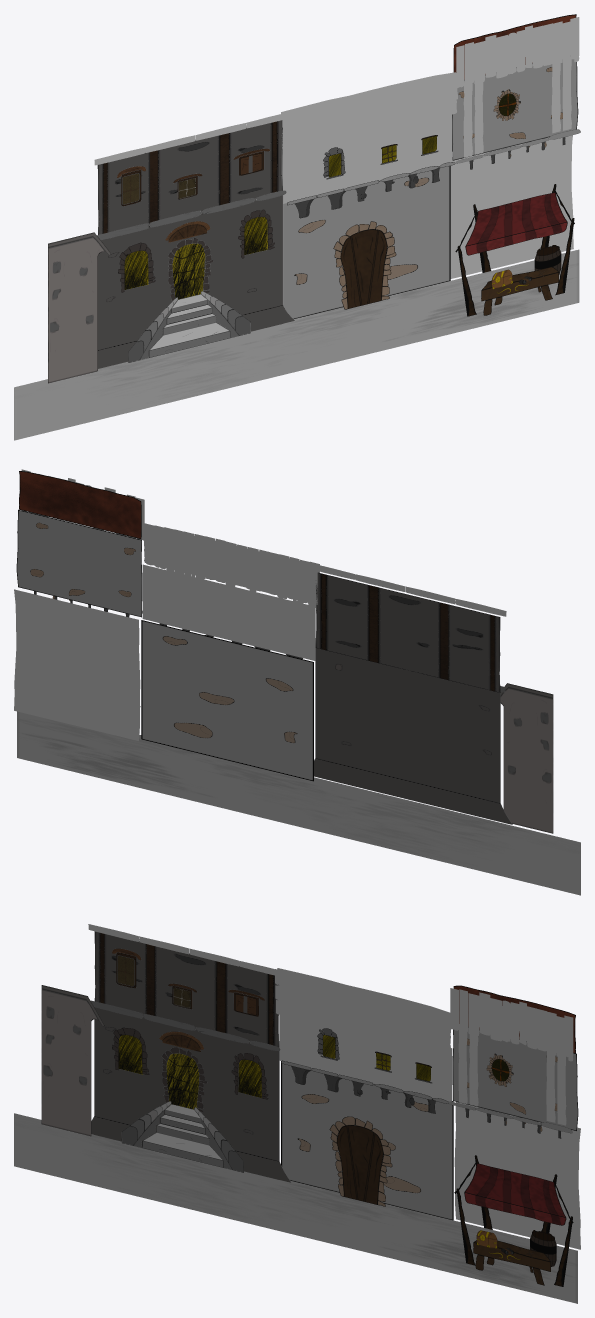
Rendered from Level2A_038.fbx.
The picture shows the model from 3 angles, top to bottom: view 1: azimuth 30°, elevation 25°; view 2: azimuth 150°, elevation 25°; view 3: azimuth 330°, elevation 25°; orthographic projection.
Visible parts, largest first — view 1: Floor, stoneM_B_UV, L_BuildingBase, Plane.009, buildingB_R_UV, OutsideHouse, buildingMidMid_UV.001, Plane.021, market_UV, Plane.020, roofShingles002_M, door_M_UV (+23 smaller); view 2: Floor, L_BuildingBase, stoneM_B_UV, buildingB_R_UV, Plane.009, Plane.021, buildingMidMid_UV.001, OutsideHouse, roofM_TOP, roofRBOT_UV, woodTop_L.; view 3: Floor, stoneM_B_UV, L_BuildingBase, Plane.009, buildingB_R_UV, OutsideHouse, buildingMidMid_UV.001, Plane.021, market_UV, Plane.020, roofShingles002_M, door_M_UV (+23 smaller).
Boxes of the visible parts, x1,y1,x2,y2 form: Floor: [14, 249, 579, 440]; stoneM_B_UV: [283, 166, 450, 318]; L_BuildingBase: [98, 195, 295, 368]; Plane.009: [97, 120, 282, 234]; buildingB_R_UV: [450, 135, 573, 278]; OutsideHouse: [48, 232, 110, 383]; buildingMidMid_UV.001: [282, 111, 452, 203]; Plane.021: [452, 55, 578, 160]; market_UV: [455, 184, 574, 316]; Plane.020: [456, 17, 579, 87]; roofShingles002_M: [282, 72, 458, 143]; door_M_UV: [333, 221, 396, 309]; Floor: [17, 711, 580, 895]; L_BuildingBase: [314, 648, 512, 824]; stoneM_B_UV: [141, 620, 313, 781]; buildingB_R_UV: [14, 589, 140, 740]; Plane.009: [315, 572, 500, 692]; Plane.021: [16, 509, 142, 617]; buildingMidMid_UV.001: [142, 564, 315, 660]; OutsideHouse: [500, 683, 553, 833]; roofM_TOP: [143, 526, 317, 604]; roofRBOT_UV: [19, 471, 141, 538]; woodTop_L.: [313, 564, 506, 616]; Floor: [14, 1113, 577, 1303]; stoneM_B_UV: [281, 1061, 453, 1220]; L_BuildingBase: [91, 1007, 291, 1182]; Plane.009: [94, 931, 279, 1047]; buildingB_R_UV: [454, 1101, 580, 1249]; OutsideHouse: [41, 985, 104, 1136]; buildingMidMid_UV.001: [279, 1011, 452, 1101]; Plane.021: [452, 1027, 578, 1130]; market_UV: [454, 1155, 573, 1286]; Plane.020: [450, 988, 573, 1061]; roofShingles002_M: [275, 969, 450, 1039]; door_M_UV: [329, 1116, 392, 1206].
Size of the model in its own units: 1647 by 810 by 63.67.
